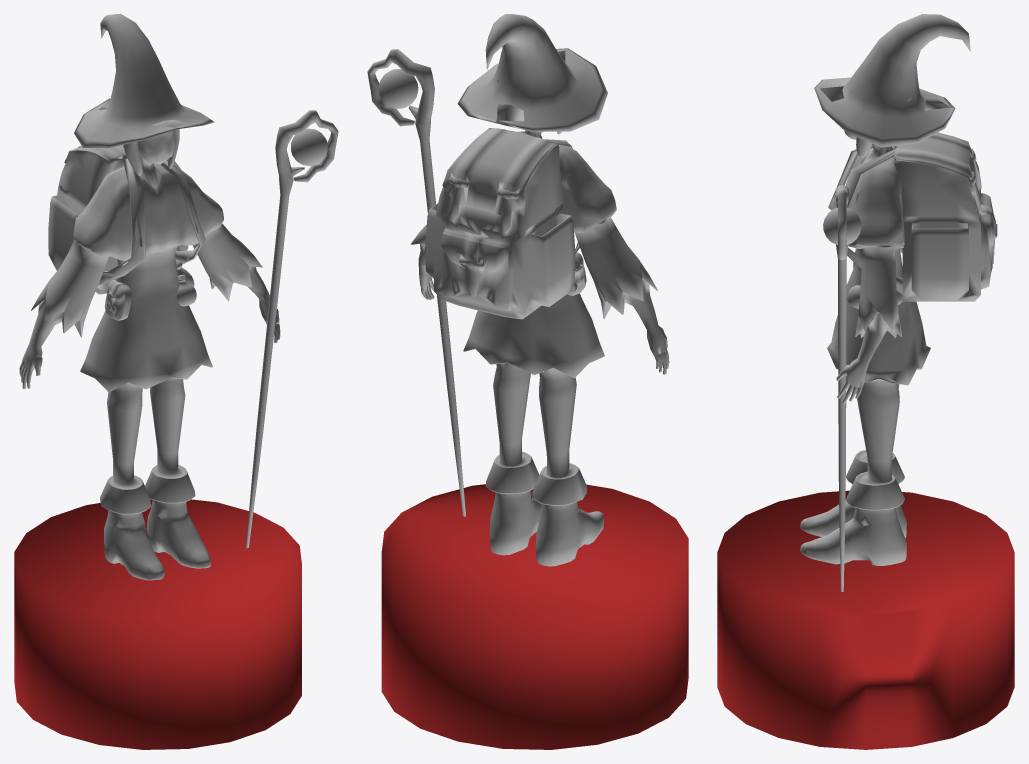
File: Erza.fbx
3 views of the same model, side by side, from view 1: azimuth 30°, elevation 25°; view 2: azimuth 150°, elevation 25°; view 3: azimuth 270°, elevation 25° (orthographic). The views are drawn at different scales.
Parts seen in each view (by area): view 1: polySurface1, Cylinder001, polySurface6; view 2: polySurface1, Cylinder001, polySurface6; view 3: Cylinder001, polySurface1, polySurface6.
Part boxes in pixels (bbox=[...]): polySurface1: bbox=[19, 14, 338, 580]; Cylinder001: bbox=[14, 499, 301, 749]; polySurface6: bbox=[291, 128, 327, 165]; polySurface1: bbox=[367, 14, 669, 566]; Cylinder001: bbox=[381, 484, 688, 749]; polySurface6: bbox=[378, 69, 418, 108]; Cylinder001: bbox=[717, 490, 1014, 749]; polySurface1: bbox=[800, 14, 997, 591]; polySurface6: bbox=[823, 208, 861, 244].
Size of the model in its own units: 427 by 893 by 360.
